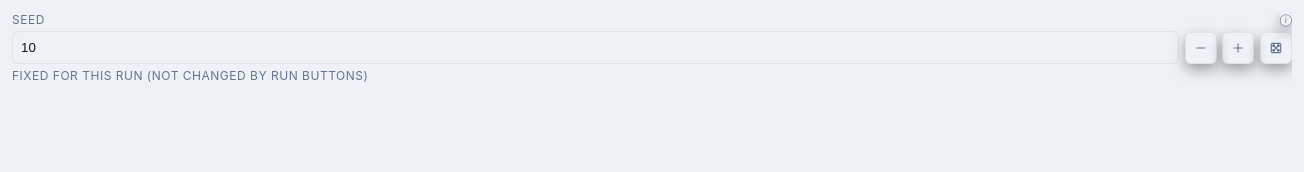
Test: SeedInput › increment button increases value and updates displayed input
Expected: the number field holds "10", [12,31,1179,64]
Click the button named "increment seed". click: (1238, 48)
box: [1222,32,1254,64]
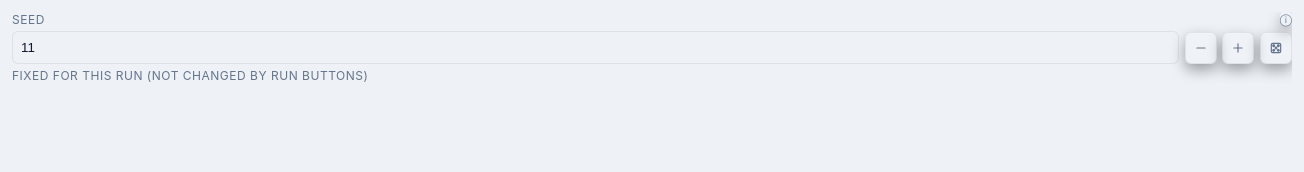
Expected: the number field holds "11", [12,31,1179,64]
